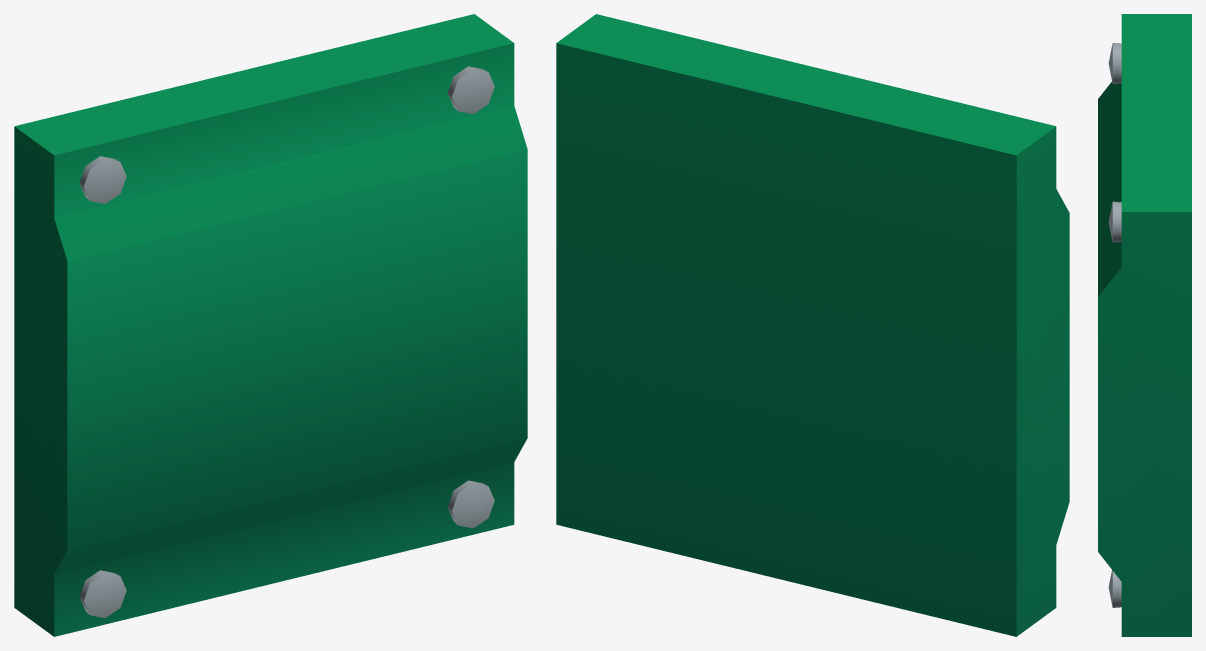
The model's file is kaykit_bracing_large_green.glb.
3 views of the same model, side by side, from view 1: azimuth 30°, elevation 25°; view 2: azimuth 150°, elevation 25°; view 3: azimuth 270°, elevation 25° (orthographic). The views are drawn at different scales.
Parts seen in each view (by area): view 1: bracing_large_green_visual; view 2: bracing_large_green_visual; view 3: bracing_large_green_visual.
Boxes of the visible parts, left/top/right/bottom form: bracing_large_green_visual: left=14, top=14, right=527, bottom=636; bracing_large_green_visual: left=556, top=14, right=1069, bottom=636; bracing_large_green_visual: left=1098, top=14, right=1191, bottom=636.
Size of what is drawn, in the model's own units: 1 by 1 by 0.2.
1 material, 1 textured.
